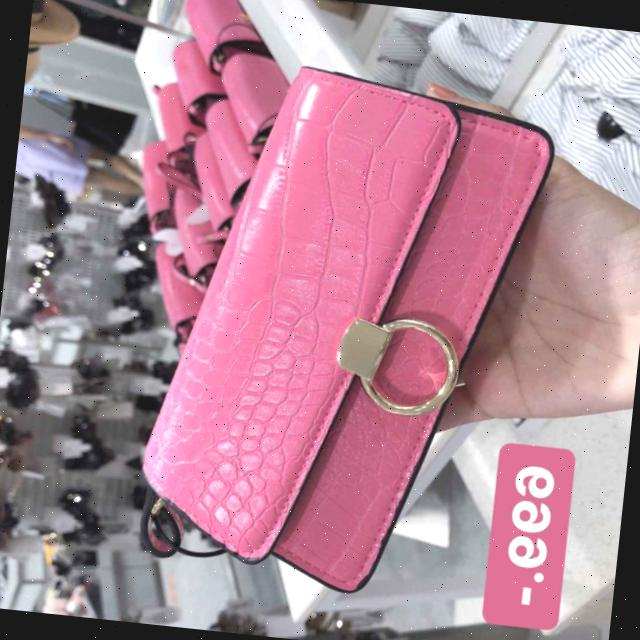Handbag: (128, 49, 562, 638)
